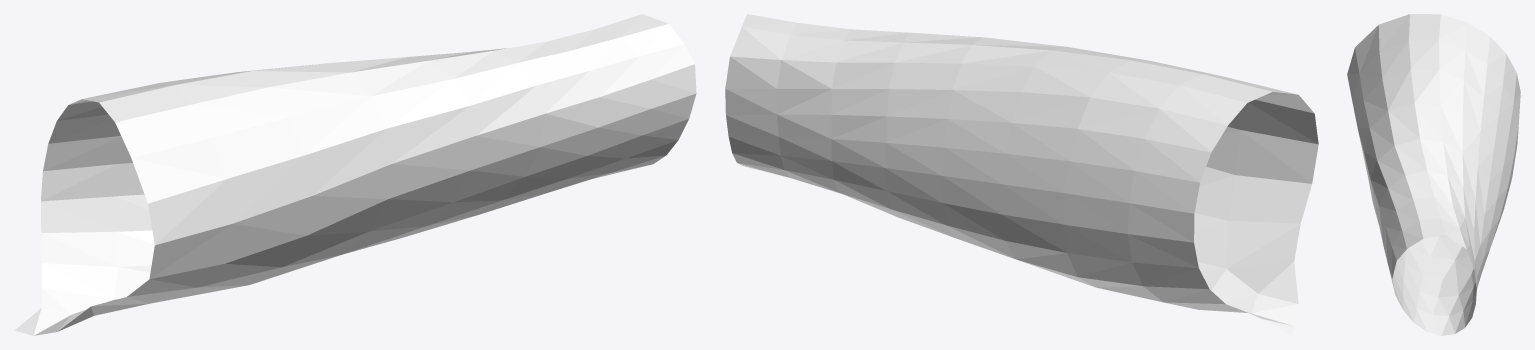
The model's file is r_forearm.dae.
3 views of the same model, side by side, from view 1: azimuth 30°, elevation 25°; view 2: azimuth 150°, elevation 25°; view 3: azimuth 270°, elevation 25° (orthographic). The views are drawn at different scales.
Parts seen in each view (by area): view 1: node; view 2: node; view 3: node.
Part boxes in pixels (box(x1,y1,x2,y2)): node: box(15, 14, 696, 335); node: box(725, 14, 1318, 335); node: box(1347, 14, 1520, 335).
Size of the model in its own units: 0.2708 by 0.0921 by 0.092.
Materials: 1 (1 with a texture image).
